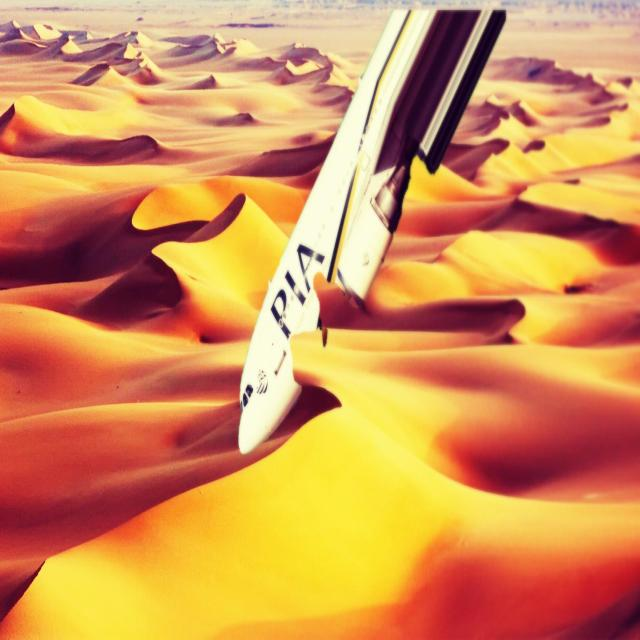airplane: (236, 6, 507, 454)
